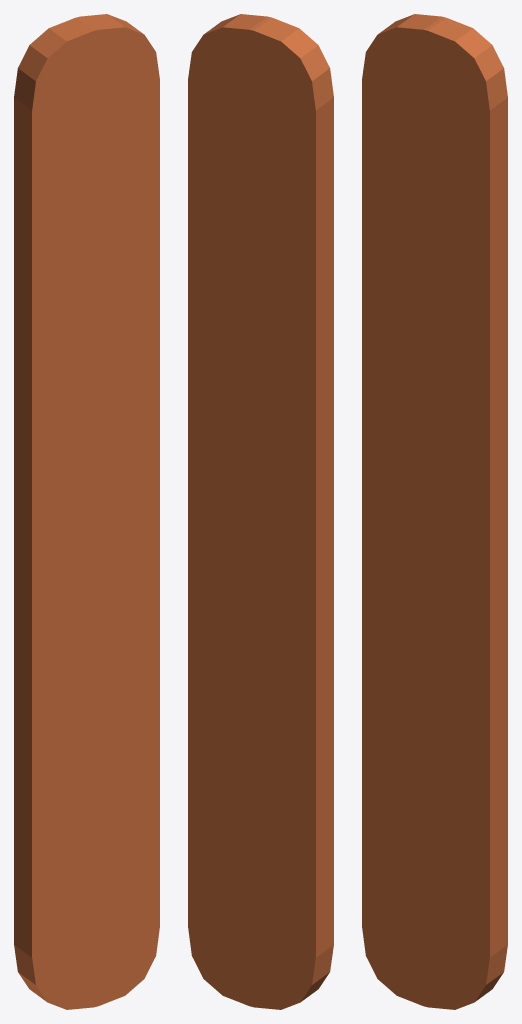
The model's file is lolly pop stick.FBX.
3 renders of one model, left to right at view 1: azimuth 30°, elevation 25°; view 2: azimuth 150°, elevation 25°; view 3: azimuth 330°, elevation 25°, orthographic.
Parts seen in each view (by area): view 1: Box002; view 2: Box002; view 3: Box002.
Boxes of the visible parts, box(x1,y1,x2,y2) form: Box002: box(14, 14, 159, 1009); Box002: box(188, 14, 333, 1009); Box002: box(362, 14, 507, 1009).
Size of the model in its own units: 9.72 by 70.96 by 2.39.
